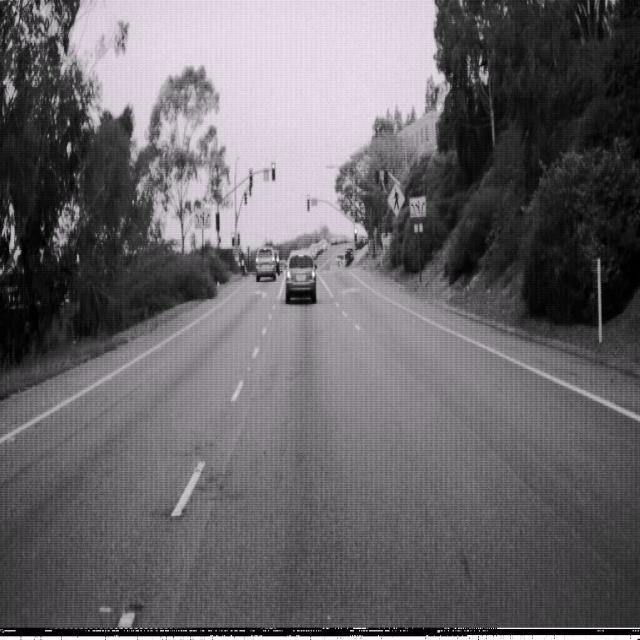pedestrianCrossing: (386, 180, 406, 217)
